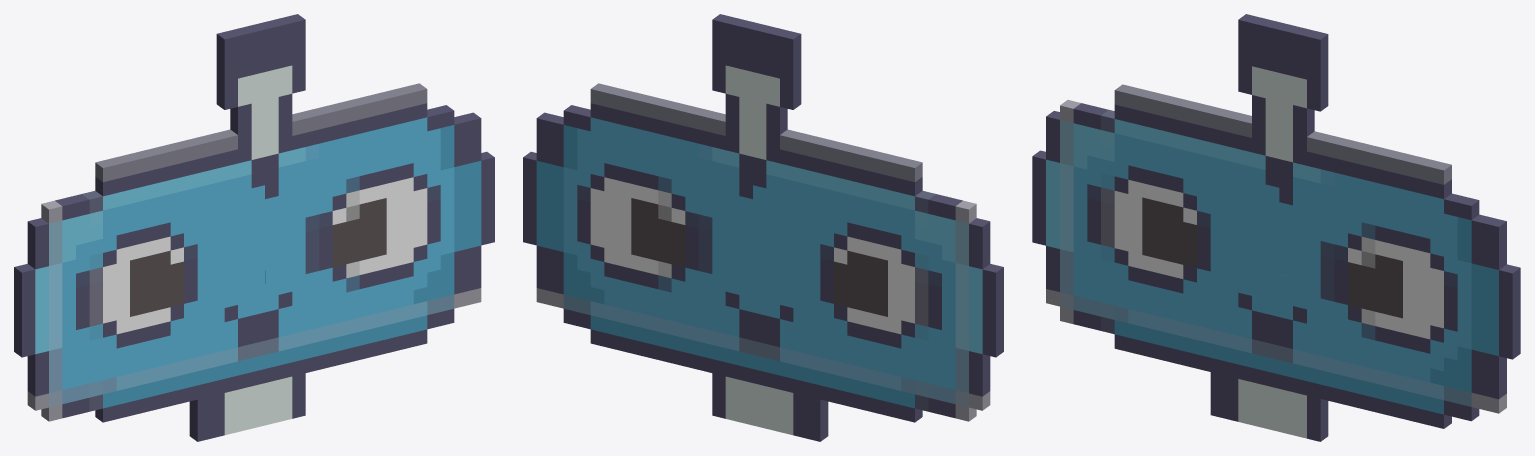
The model's file is huey.glb.
The picture shows the model from 3 angles, left to right: view 1: azimuth 30°, elevation 25°; view 2: azimuth 150°, elevation 25°; view 3: azimuth 330°, elevation 25°; orthographic projection.
Size of the model in its own units: 7.45 by 5.96 by 0.2131.
